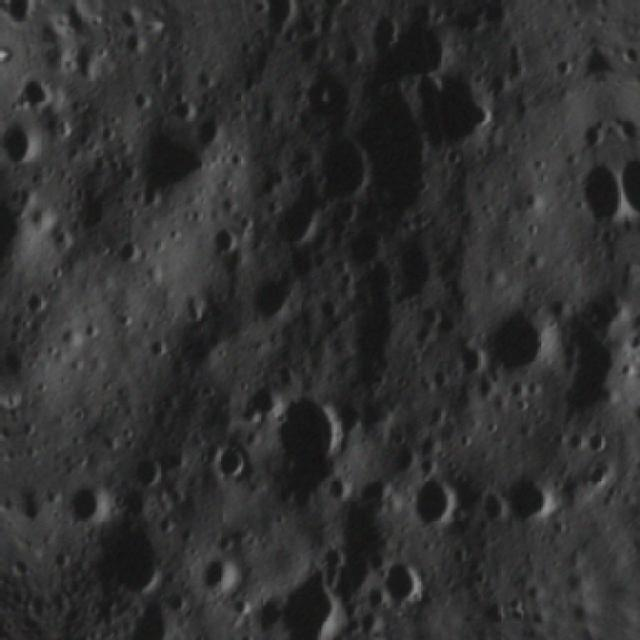crater: (332, 72, 456, 222), (410, 54, 508, 158), (547, 321, 640, 429), (259, 552, 361, 640), (265, 379, 357, 473), (480, 291, 568, 384), (85, 514, 173, 603), (299, 124, 378, 208), (136, 131, 221, 209), (379, 230, 452, 315), (379, 2, 455, 82), (564, 148, 625, 230), (403, 462, 469, 532), (493, 466, 559, 532), (263, 188, 331, 252), (374, 546, 438, 608), (51, 477, 108, 535), (442, 327, 492, 390), (194, 546, 248, 602), (202, 431, 253, 487), (248, 272, 298, 328), (465, 479, 513, 536), (240, 371, 283, 424), (0, 115, 38, 170), (14, 70, 58, 115), (17, 276, 60, 319), (205, 215, 247, 258), (332, 30, 371, 76), (190, 109, 230, 148), (128, 447, 166, 488), (114, 230, 146, 268)
